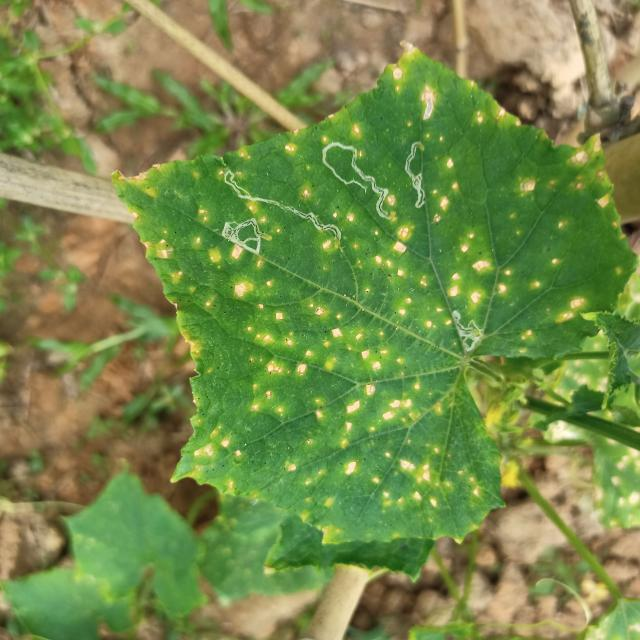disease_cucumber: (153, 60, 607, 344), (130, 225, 494, 520)
